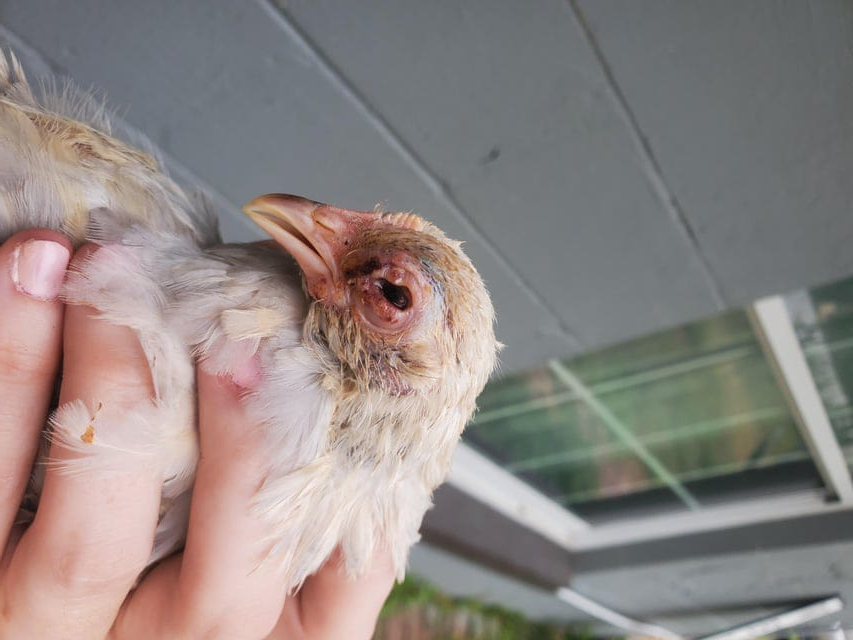Unhealthy: (2, 86, 502, 614)
